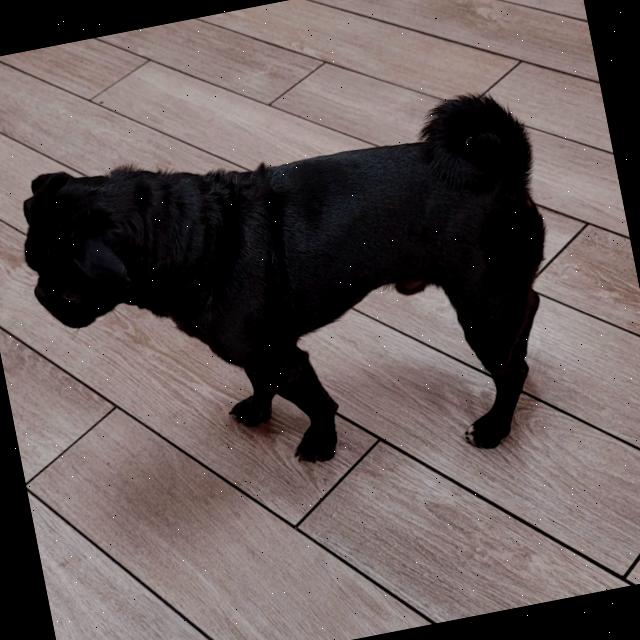pug_dog: (5, 138, 186, 356)
